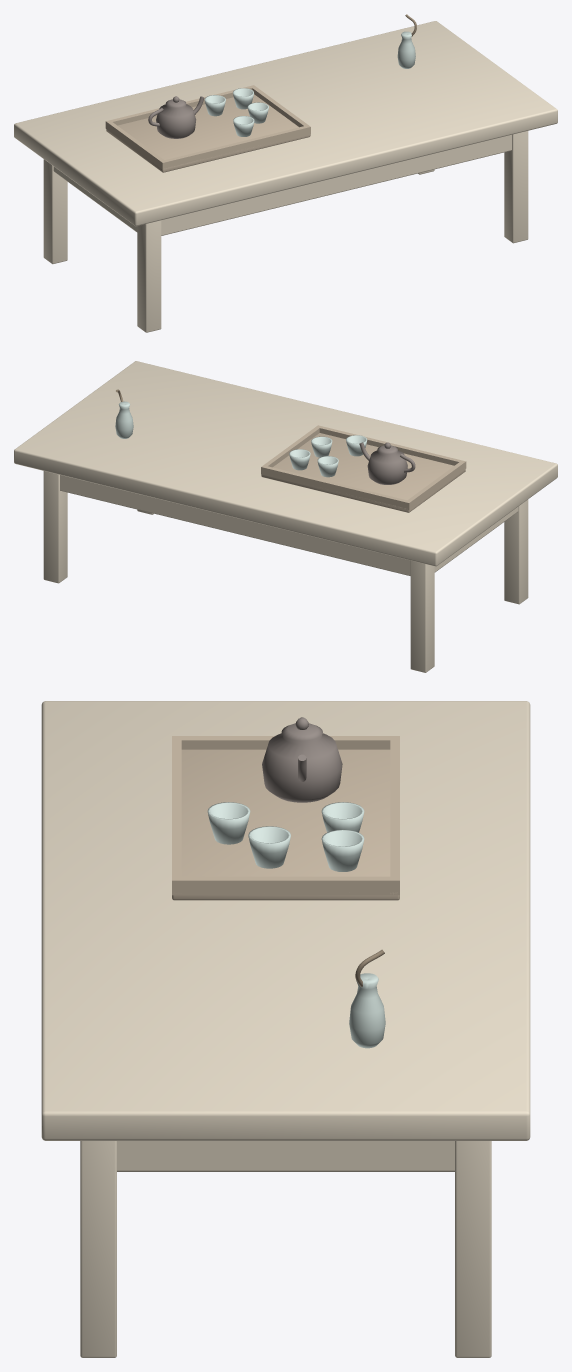
Rendered from sg_tea_table.glb.
The picture shows the model from 3 angles, top to bottom: view 1: azimuth 30°, elevation 25°; view 2: azimuth 150°, elevation 25°; view 3: azimuth 270°, elevation 25°; orthographic projection. The views are drawn at different scales.
Parts seen in each view (by area): view 1: top, apron, tray, trayrim, leg00, leg10, leg01, pot_body, vase; view 2: top, apron, tray, trayrim, leg01, leg11, leg00, pot_body, vase; view 3: top, tray, apron, trayrim, leg10, leg11, pot_body, vase, cup0, cup1, cup3, cup2.
Boxes of the visible parts, x1,y1,x2,y2 form: top: [14, 21, 557, 226]; apron: [53, 135, 511, 235]; tray: [106, 94, 310, 172]; trayrim: [105, 85, 310, 170]; leg00: [137, 220, 161, 332]; leg10: [504, 131, 528, 243]; leg01: [43, 159, 67, 264]; pot_body: [156, 99, 196, 138]; vase: [397, 31, 415, 68]; top: [14, 361, 557, 566]; apron: [60, 475, 518, 575]; tray: [261, 433, 465, 512]; trayrim: [261, 425, 466, 510]; leg01: [410, 560, 434, 672]; leg11: [43, 471, 67, 583]; leg00: [504, 499, 528, 604]; pot_body: [367, 445, 407, 484]; vase: [115, 401, 133, 438]; top: [41, 701, 530, 1140]; tray: [172, 749, 399, 900]; apron: [117, 1141, 454, 1171]; trayrim: [172, 736, 399, 895]; leg10: [80, 1141, 116, 1357]; leg11: [455, 1141, 491, 1357]; pot_body: [262, 723, 342, 802]; vase: [349, 973, 385, 1048]; cup0: [207, 802, 250, 844]; cup1: [248, 826, 290, 868]; cup3: [321, 829, 364, 871]; cup2: [321, 802, 364, 832].
Size of the model in its own units: 1.2 by 0.4925 by 0.6.
